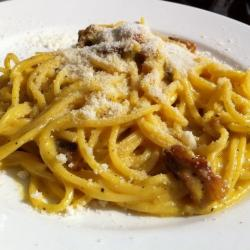carbonara: (2, 20, 250, 213)
